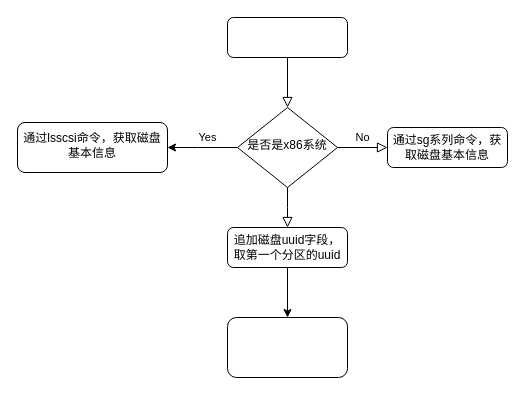
Some shapes in this 525 by 395 pixel diagram are drawn without their labels. The centre of each missing label's shape, as x and y in pixels:
"获取得到系统盘，节点名，etcd对象" goes at (x=287, y=37).
"通过ceph命令，获取和集群相关的字段信息，访问etcd获取与池相关信息" goes at (x=287, y=347).
